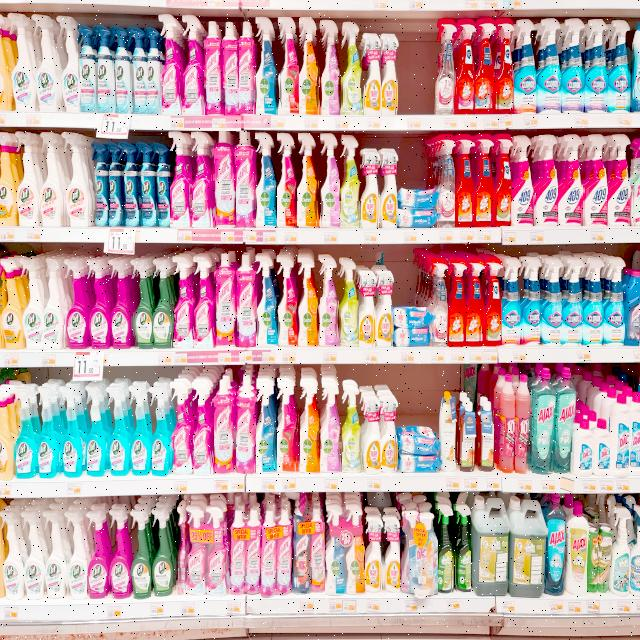OOS: (399, 59, 439, 115)
Product: (185, 505, 229, 594), (471, 494, 509, 596), (325, 502, 367, 594), (508, 494, 544, 598), (402, 509, 440, 595), (294, 499, 325, 594), (7, 12, 35, 110), (262, 508, 293, 596), (55, 12, 82, 113), (230, 508, 261, 595), (532, 367, 557, 473), (554, 367, 578, 474), (16, 130, 42, 226), (62, 132, 88, 227), (16, 385, 42, 480), (22, 506, 48, 600), (183, 14, 207, 115), (84, 382, 110, 475), (32, 12, 56, 112), (61, 384, 87, 476), (511, 20, 536, 114), (536, 20, 561, 114), (1, 506, 25, 603), (558, 134, 583, 226), (43, 506, 68, 598), (21, 256, 45, 350), (563, 499, 587, 593), (40, 384, 64, 478), (194, 255, 218, 348), (128, 384, 152, 477), (162, 14, 184, 115), (583, 134, 607, 226), (213, 132, 236, 228), (172, 255, 196, 347), (170, 382, 194, 474), (87, 508, 111, 600), (169, 132, 192, 227), (148, 385, 172, 476), (64, 509, 88, 600), (255, 254, 278, 348), (534, 136, 558, 226), (152, 507, 176, 597), (256, 17, 278, 115), (278, 18, 300, 116), (300, 18, 322, 116), (44, 257, 67, 350), (109, 508, 132, 601), (66, 259, 90, 348), (106, 386, 130, 475), (1, 257, 24, 349), (255, 131, 277, 227), (215, 253, 237, 349), (110, 258, 133, 349), (340, 133, 362, 228), (276, 131, 298, 226), (192, 132, 214, 227), (278, 378, 300, 473), (234, 132, 256, 226), (41, 132, 63, 226), (214, 379, 236, 473), (322, 18, 343, 116), (88, 260, 111, 349), (298, 133, 320, 226), (276, 254, 298, 347), (546, 494, 566, 596), (562, 20, 584, 112), (586, 20, 608, 112), (608, 20, 630, 112), (608, 134, 630, 226), (320, 381, 342, 473), (256, 382, 278, 474), (611, 504, 633, 596), (343, 20, 364, 116), (512, 135, 534, 226), (296, 255, 318, 346), (236, 379, 257, 474), (153, 258, 175, 348), (319, 133, 340, 226), (132, 257, 153, 350), (396, 426, 440, 470), (342, 384, 364, 472), (300, 380, 321, 472), (193, 382, 214, 474), (455, 19, 475, 115), (494, 19, 514, 115), (0, 130, 20, 226), (540, 258, 562, 345), (437, 19, 457, 114), (604, 256, 625, 345), (131, 508, 152, 597), (475, 19, 494, 115), (436, 132, 455, 228), (78, 23, 98, 113), (320, 256, 340, 346), (514, 373, 532, 473), (497, 374, 515, 474), (237, 254, 256, 348), (562, 257, 582, 346), (492, 133, 511, 226), (453, 500, 472, 592), (222, 20, 240, 116), (397, 186, 437, 229), (339, 260, 359, 345), (205, 21, 223, 115), (456, 134, 474, 228), (239, 22, 257, 114), (474, 134, 492, 226), (521, 258, 540, 344), (584, 256, 602, 346), (502, 257, 520, 346), (130, 28, 149, 112), (137, 142, 156, 226), (113, 25, 131, 113), (466, 258, 484, 346), (610, 393, 629, 476), (429, 260, 447, 346), (361, 148, 380, 229), (449, 257, 466, 347), (0, 386, 16, 480), (382, 512, 400, 594), (438, 502, 454, 594), (363, 34, 381, 115), (365, 512, 383, 593), (123, 142, 140, 226), (98, 24, 114, 113), (486, 256, 502, 345), (93, 142, 110, 225), (364, 395, 382, 473), (380, 148, 397, 229), (154, 143, 170, 227), (108, 142, 124, 226), (394, 308, 429, 346), (382, 32, 398, 115), (439, 396, 456, 474), (359, 270, 376, 347), (381, 394, 398, 471), (376, 272, 393, 348), (148, 30, 162, 115), (624, 268, 639, 346), (478, 401, 494, 470), (598, 524, 613, 596), (0, 13, 11, 111), (460, 401, 475, 471), (592, 417, 610, 475), (574, 419, 592, 476), (176, 500, 187, 593), (629, 390, 640, 477), (631, 503, 640, 598), (588, 521, 599, 594), (631, 138, 640, 227), (632, 22, 640, 114)
